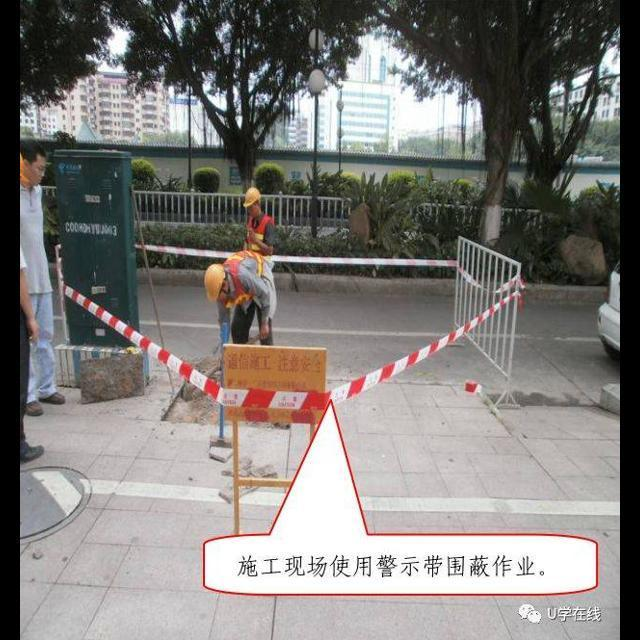Capacete: (204, 263, 224, 300), (243, 187, 260, 207)
Colete: (223, 250, 263, 307), (245, 214, 274, 251)
